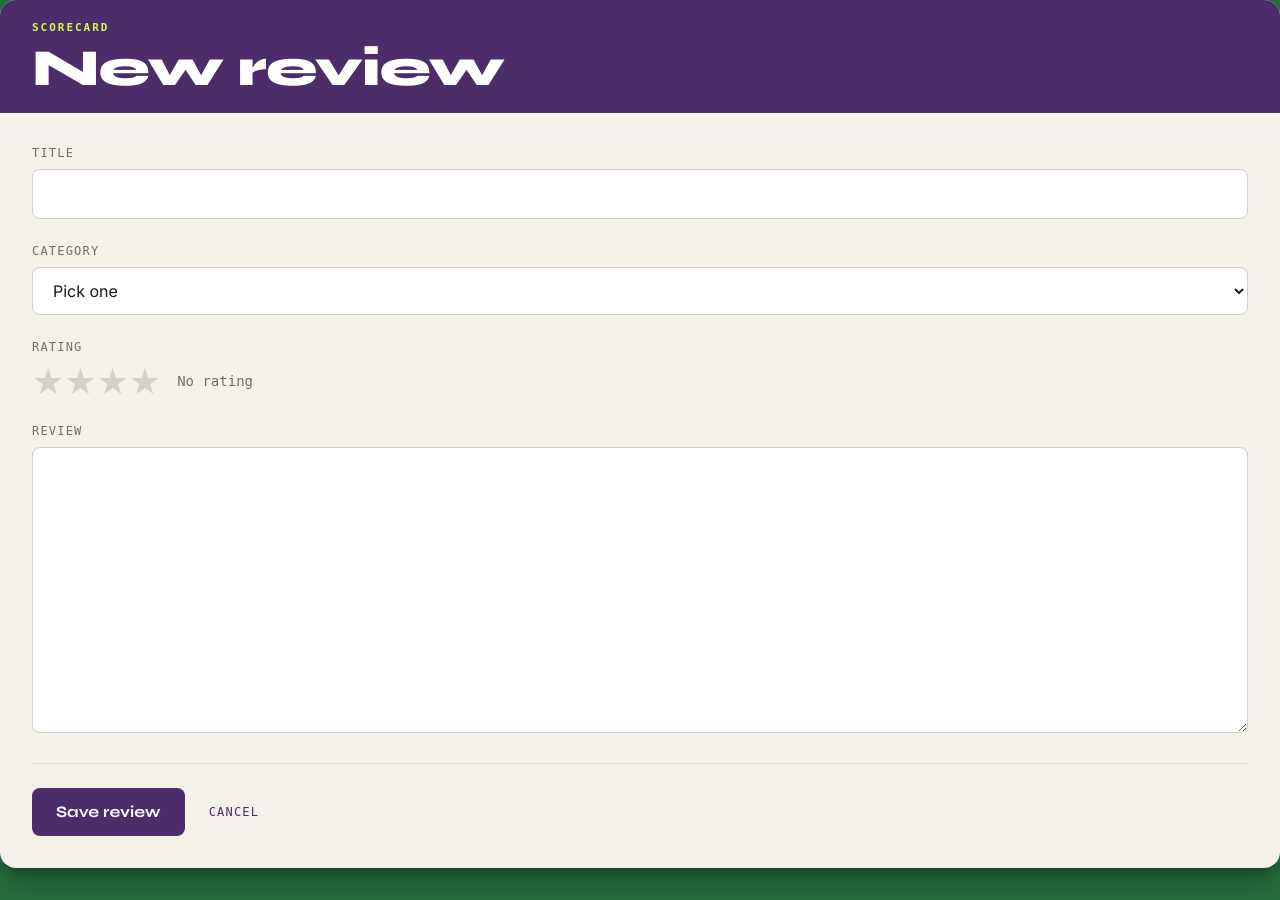
ReviewForm › shows errors and does not save an empty review
Click the button "Save review": click(108, 812) [32,788,185,836]
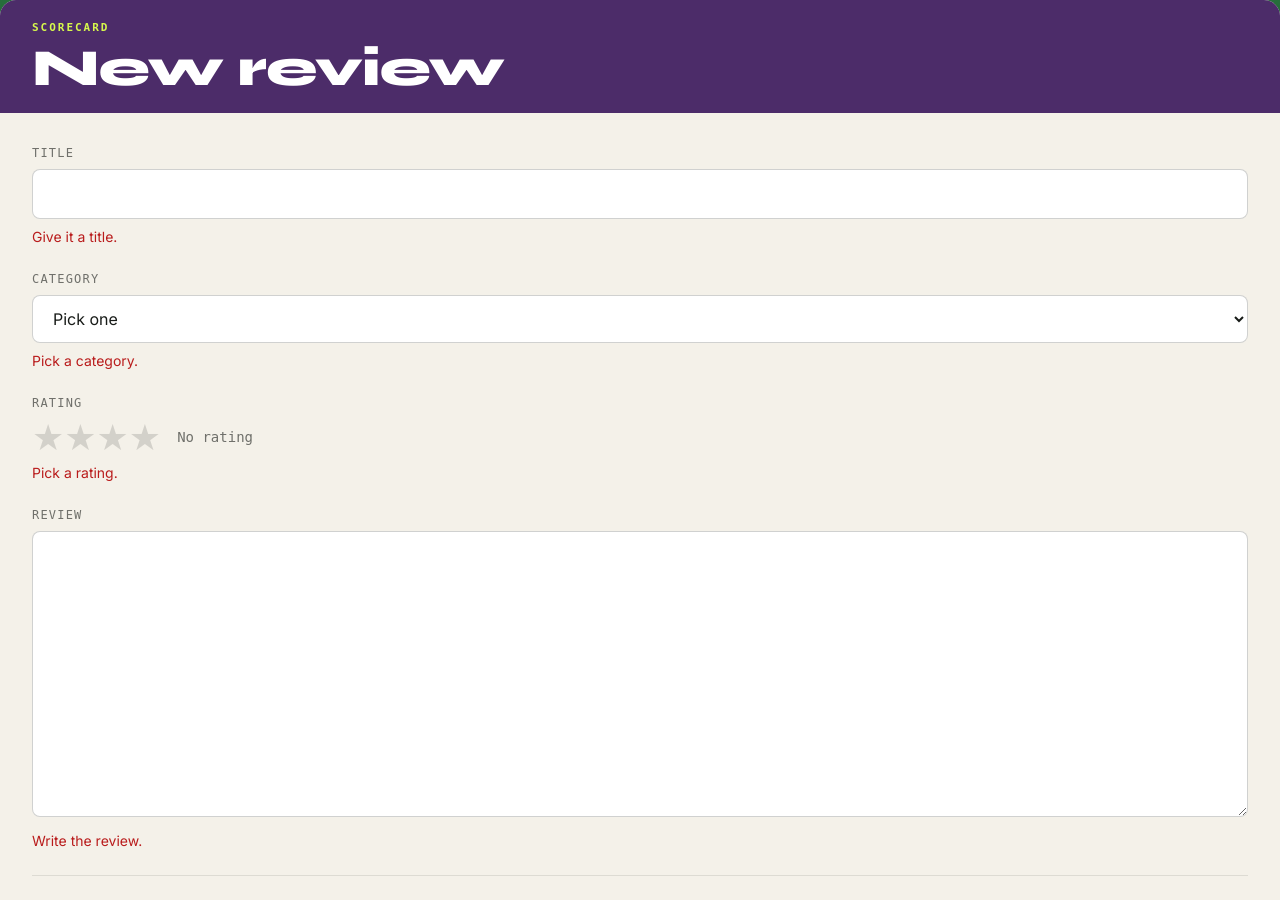
Check: the text "Give it a title." is shown, box [32,228,117,245]
Check: the text "Pick a rating." is shown, box [32,464,118,481]
